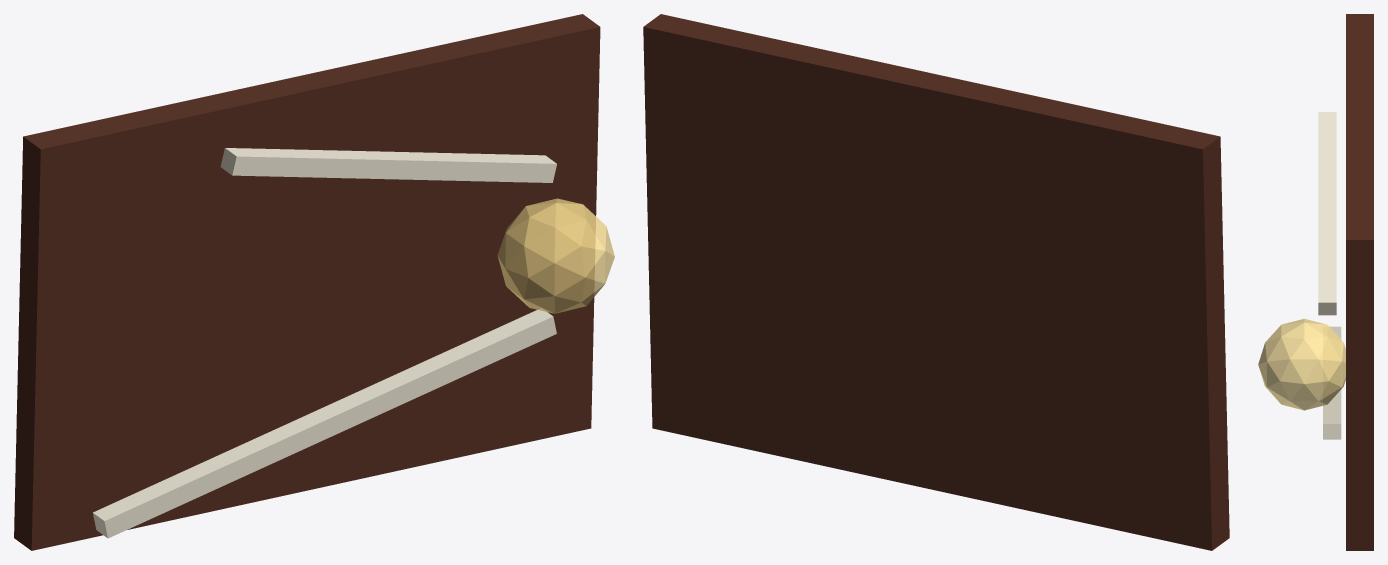
Rendered from 02_world_prop_polish.glb.
3 renders of one model, left to right at view 1: azimuth 30°, elevation 25°; view 2: azimuth 150°, elevation 25°; view 3: azimuth 270°, elevation 25°, orthographic. The views are drawn at different scales.
Visible parts, largest first — view 1: object_overlay_plate, edge_wear_a, glow_socket, edge_wear_b; view 2: object_overlay_plate; view 3: object_overlay_plate, glow_socket, edge_wear_b, edge_wear_a.
Part boxes in pixels (x1,y1,x2,y2): object_overlay_plate: [14, 14, 600, 550]; edge_wear_a: [93, 308, 556, 538]; glow_socket: [497, 198, 614, 313]; edge_wear_b: [220, 148, 556, 182]; object_overlay_plate: [643, 14, 1229, 550]; object_overlay_plate: [1346, 14, 1373, 550]; glow_socket: [1258, 318, 1345, 410]; edge_wear_b: [1318, 112, 1336, 315]; edge_wear_a: [1323, 326, 1341, 439].
Size of the model in its own units: 1.12 by 0.7761 by 0.25.
